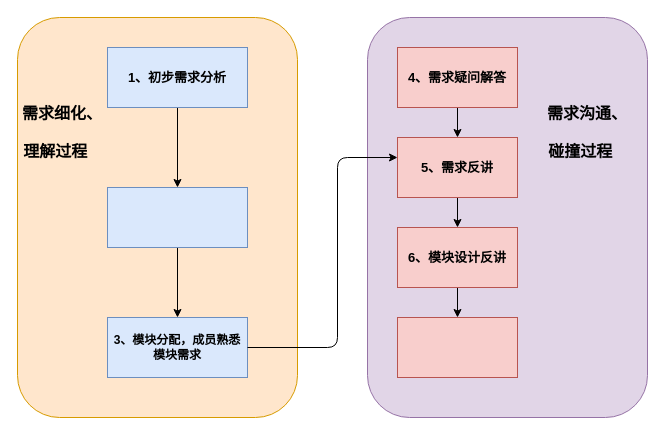
Some shapes in this 665 by 435 pixel diagram are drawn without their labels. The centre of each missing label's shape, as x and y in pixels:
"2、需求讲解会" goes at point (177, 217).
"7、测试设计、案例评审" goes at point (457, 347).
